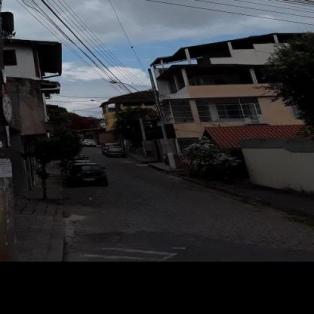Poste: (0, 0, 31, 261)
